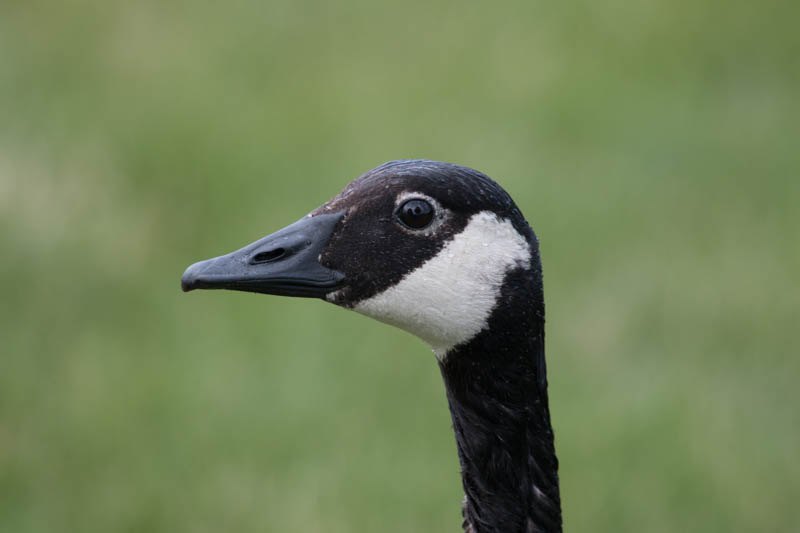goose-head: (182, 160, 545, 365)
